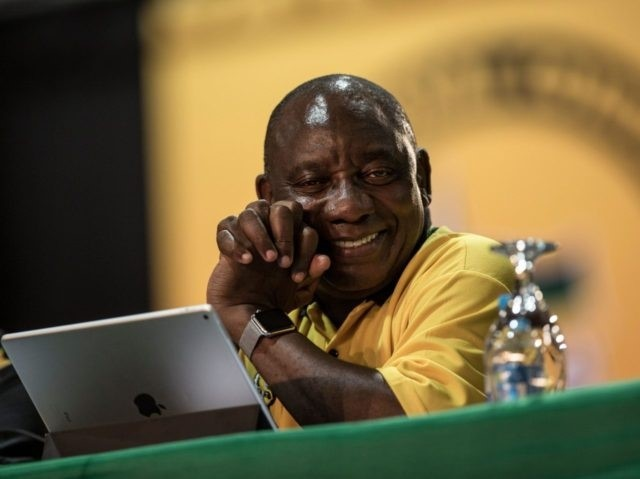face_no_mask: (254, 73, 432, 291)
